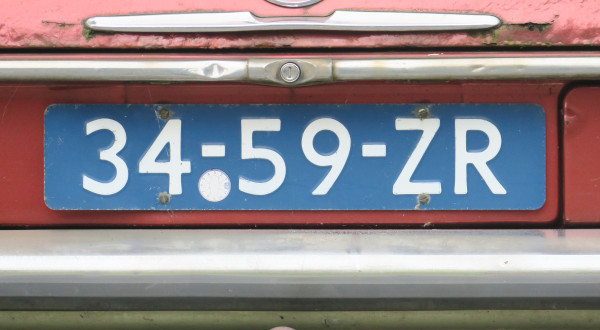license_plate: (44, 103, 548, 209)
